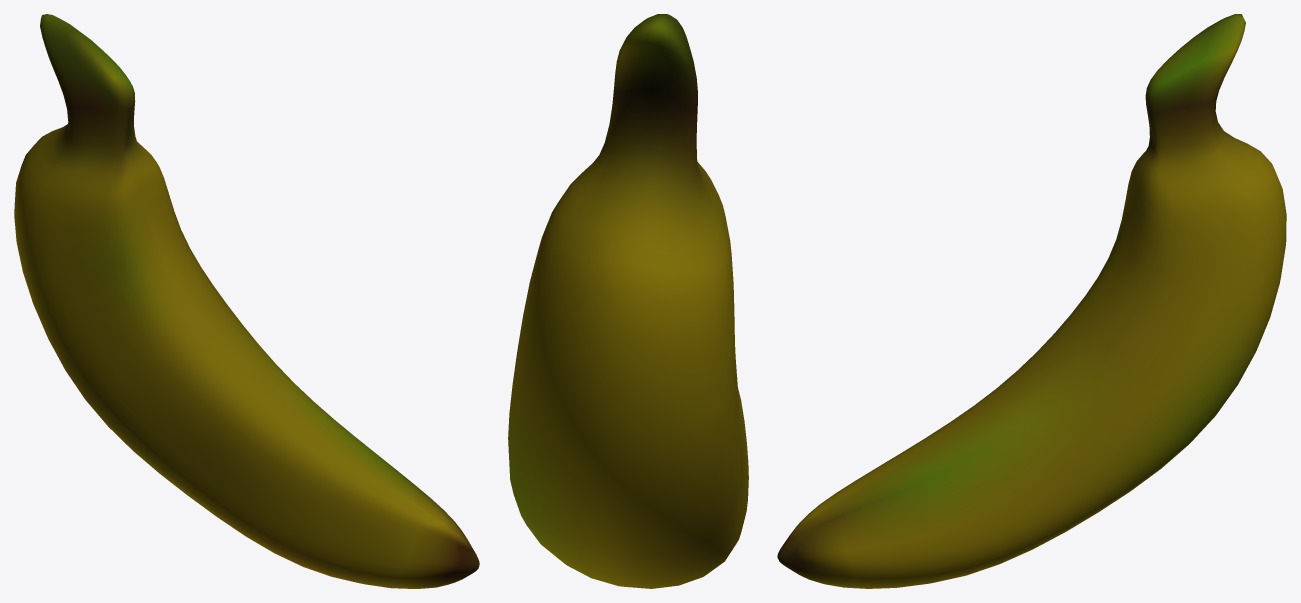
The model's file is Banana.fbx.
The picture shows the model from 3 angles, left to right: view 1: azimuth 30°, elevation 25°; view 2: azimuth 150°, elevation 25°; view 3: azimuth 270°, elevation 25°; orthographic projection. The views are drawn at different scales.
Parts seen in each view (by area): view 1: polySurface38; view 2: polySurface38; view 3: polySurface38.
Boxes of the visible parts, x1,y1,x2,y2 form: polySurface38: (14,14,479,588); polySurface38: (508,14,748,588); polySurface38: (777,14,1286,588).
Size of the model in its own units: 0.6984 by 1.3 by 1.23.
